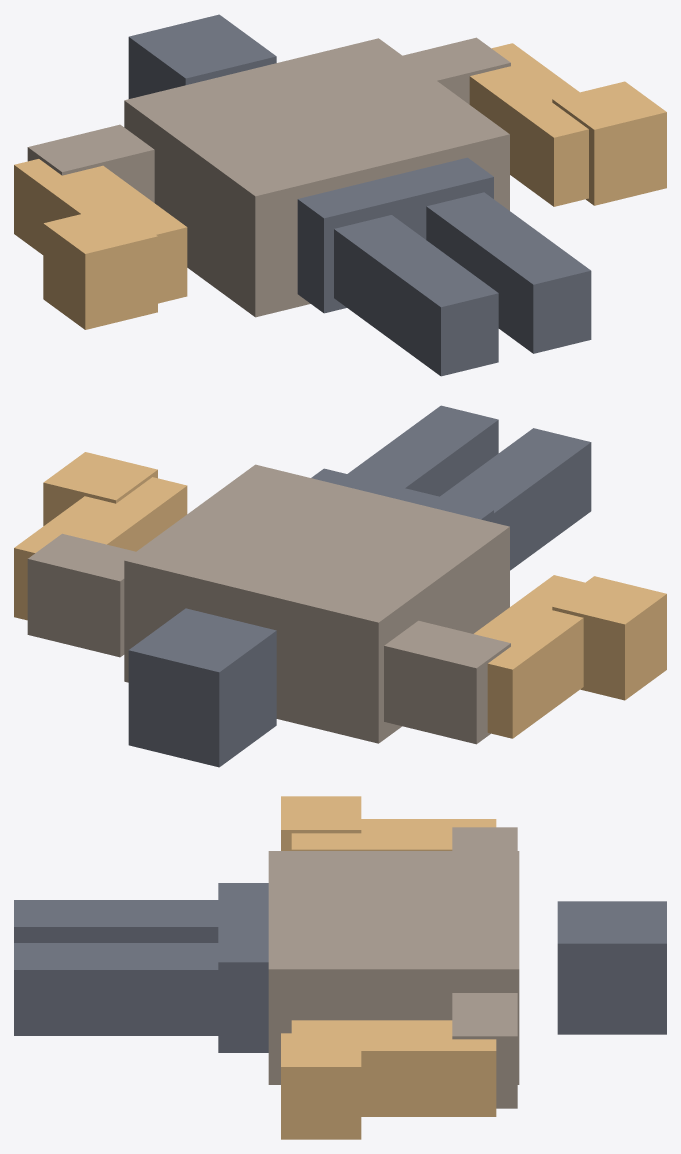
File: rook-ironside_male_select.glb
3 views of the same model, one above another, from view 1: azimuth 30°, elevation 25°; view 2: azimuth 150°, elevation 25°; view 3: azimuth 270°, elevation 25° (orthographic). The views are drawn at different scales.
Parts seen in each view (by area): view 1: rook-ironside_male_body; view 2: rook-ironside_male_body; view 3: rook-ironside_male_body.
Part boxes in pixels (x1,y1,x2,y2): rook-ironside_male_body: [14, 14, 666, 376]; rook-ironside_male_body: [14, 405, 666, 767]; rook-ironside_male_body: [14, 796, 666, 1139].
Bounding box in the file's own units: 1.76 × 0.3502 × 1.79.
